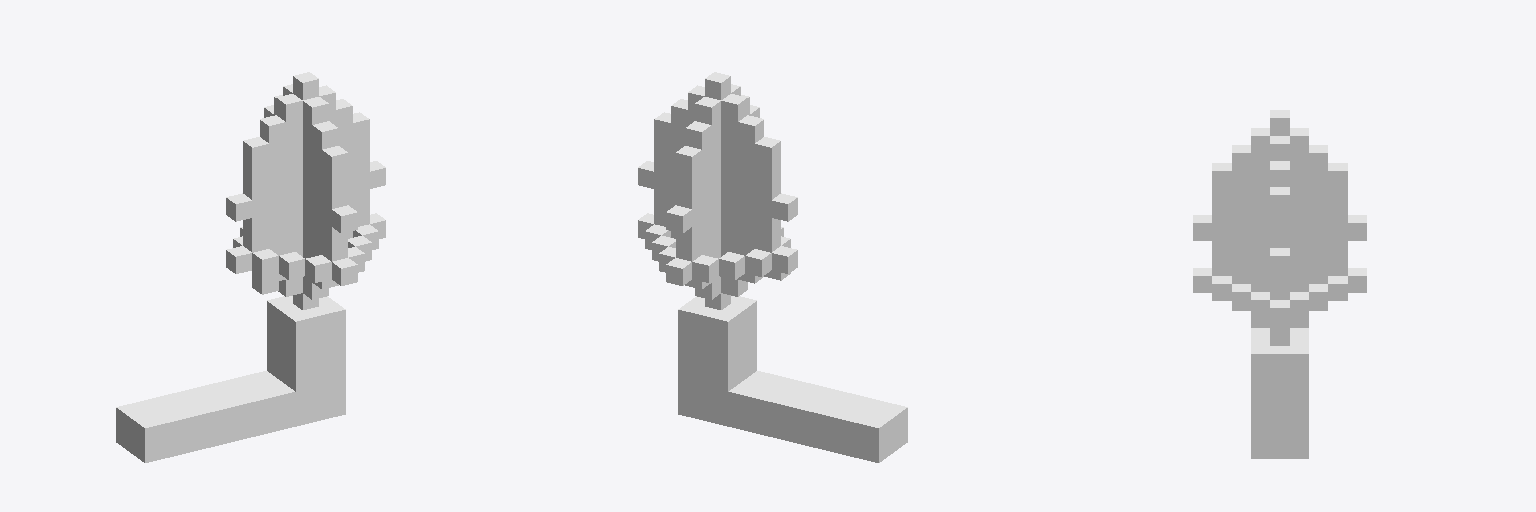
Rendered from Torch2.obj.
3 views of the same model, side by side, from view 1: azimuth 30°, elevation 25°; view 2: azimuth 150°, elevation 25°; view 3: azimuth 270°, elevation 25° (orthographic).
Visible parts, largest first — view 1: object 1; view 2: object 1; view 3: object 1.
Boxes of the visible parts, box(x1,y1,x2,y2) form: object 1: box(116, 72, 385, 462); object 1: box(638, 72, 907, 462); object 1: box(1193, 110, 1366, 458).
Size of the model in its own units: 1.5 by 1.9 by 0.9.